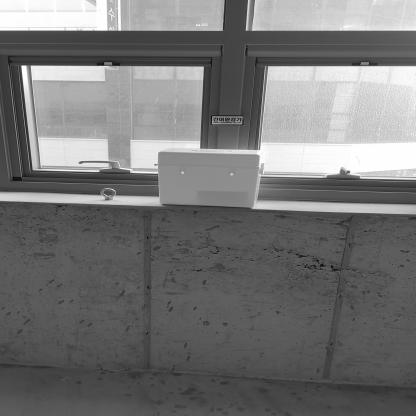DDL: (158, 147, 262, 209)
